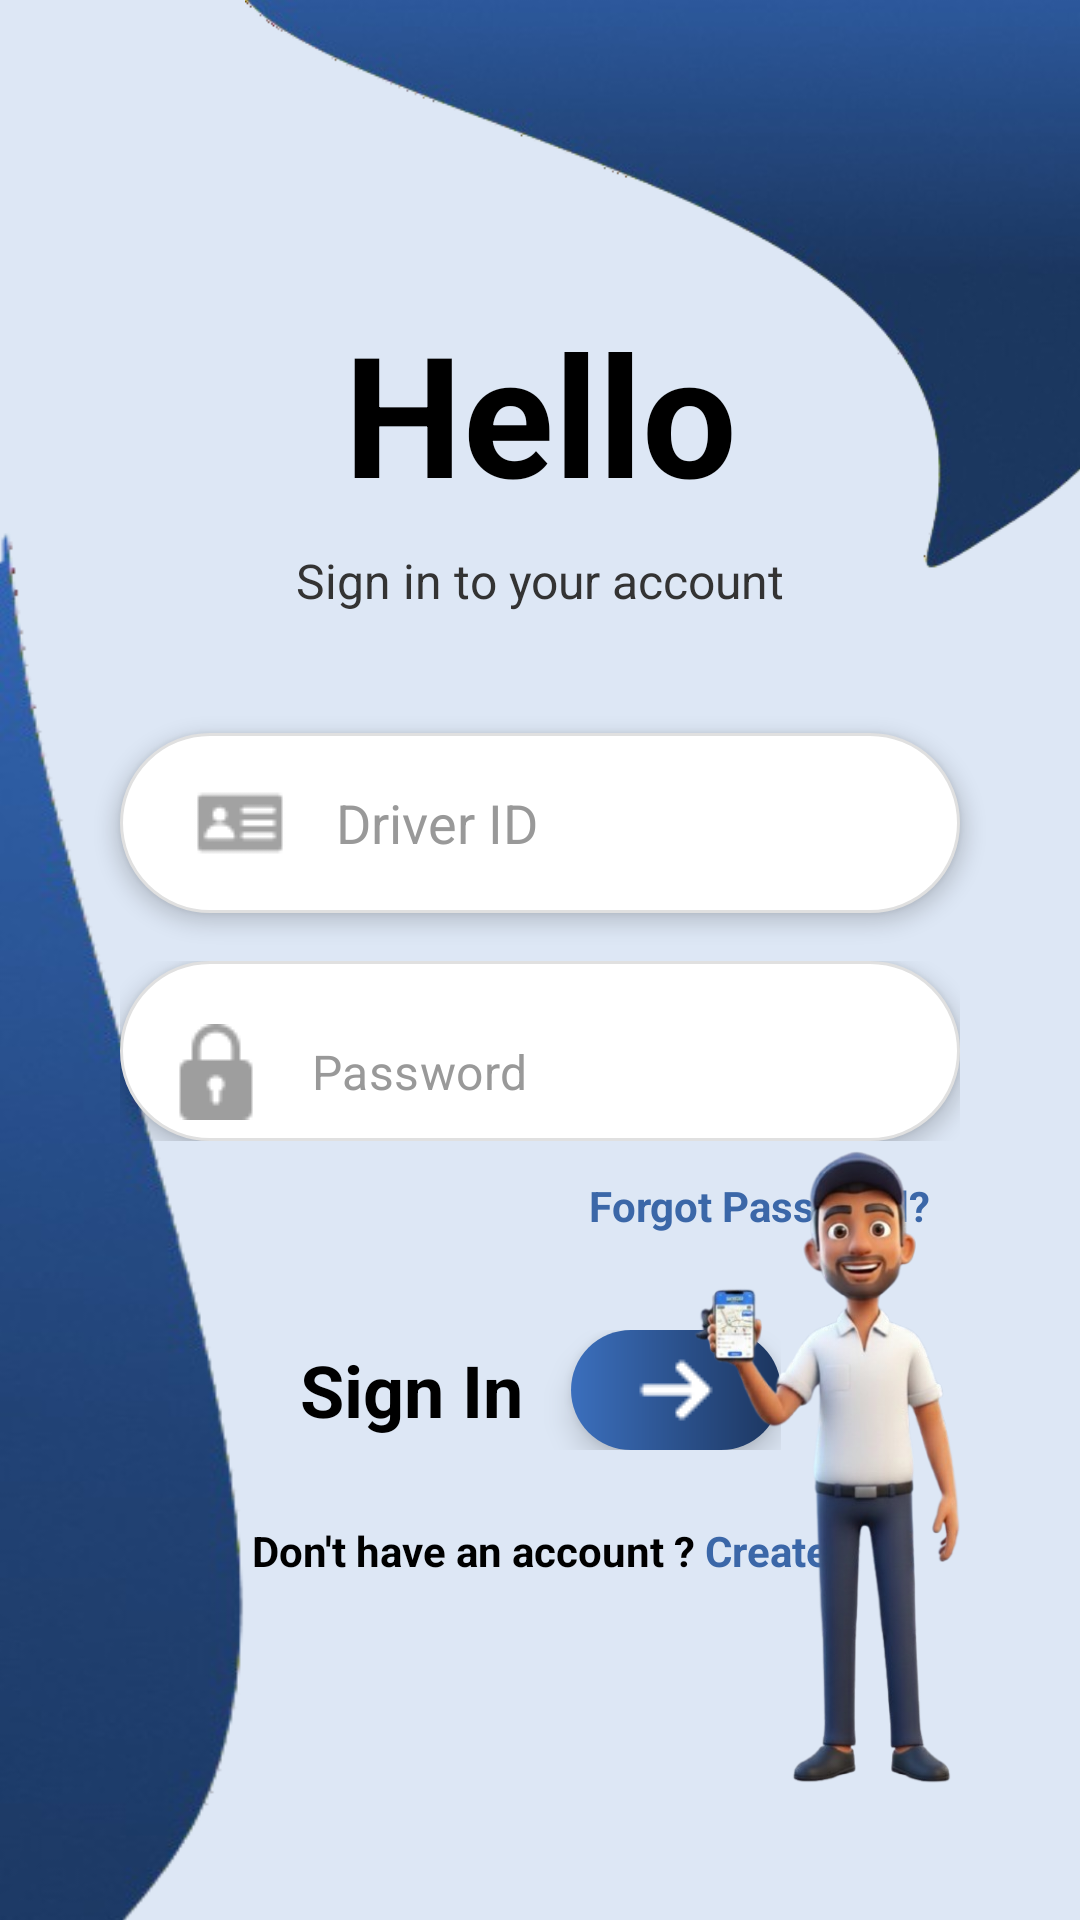

Locate icon controls on the screen. Image size 1080*1920, boxes as (x1, y1, x2, y2).
rightarrow: (571, 1330, 781, 1450)
